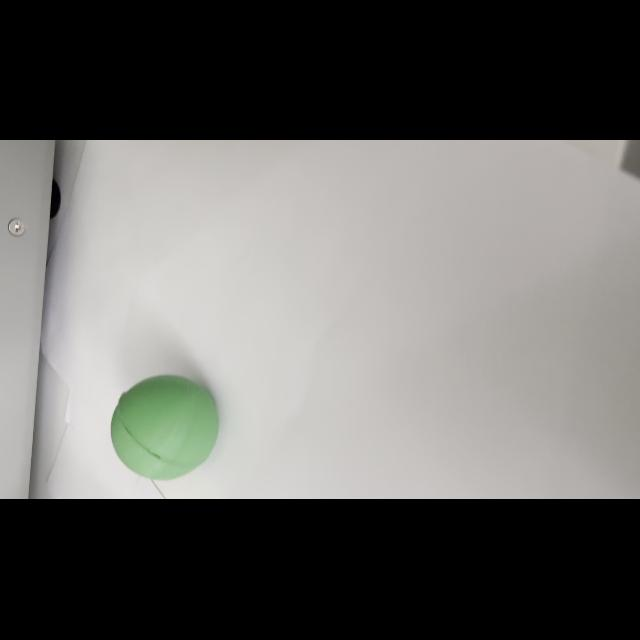objects: (108, 369, 224, 483)
